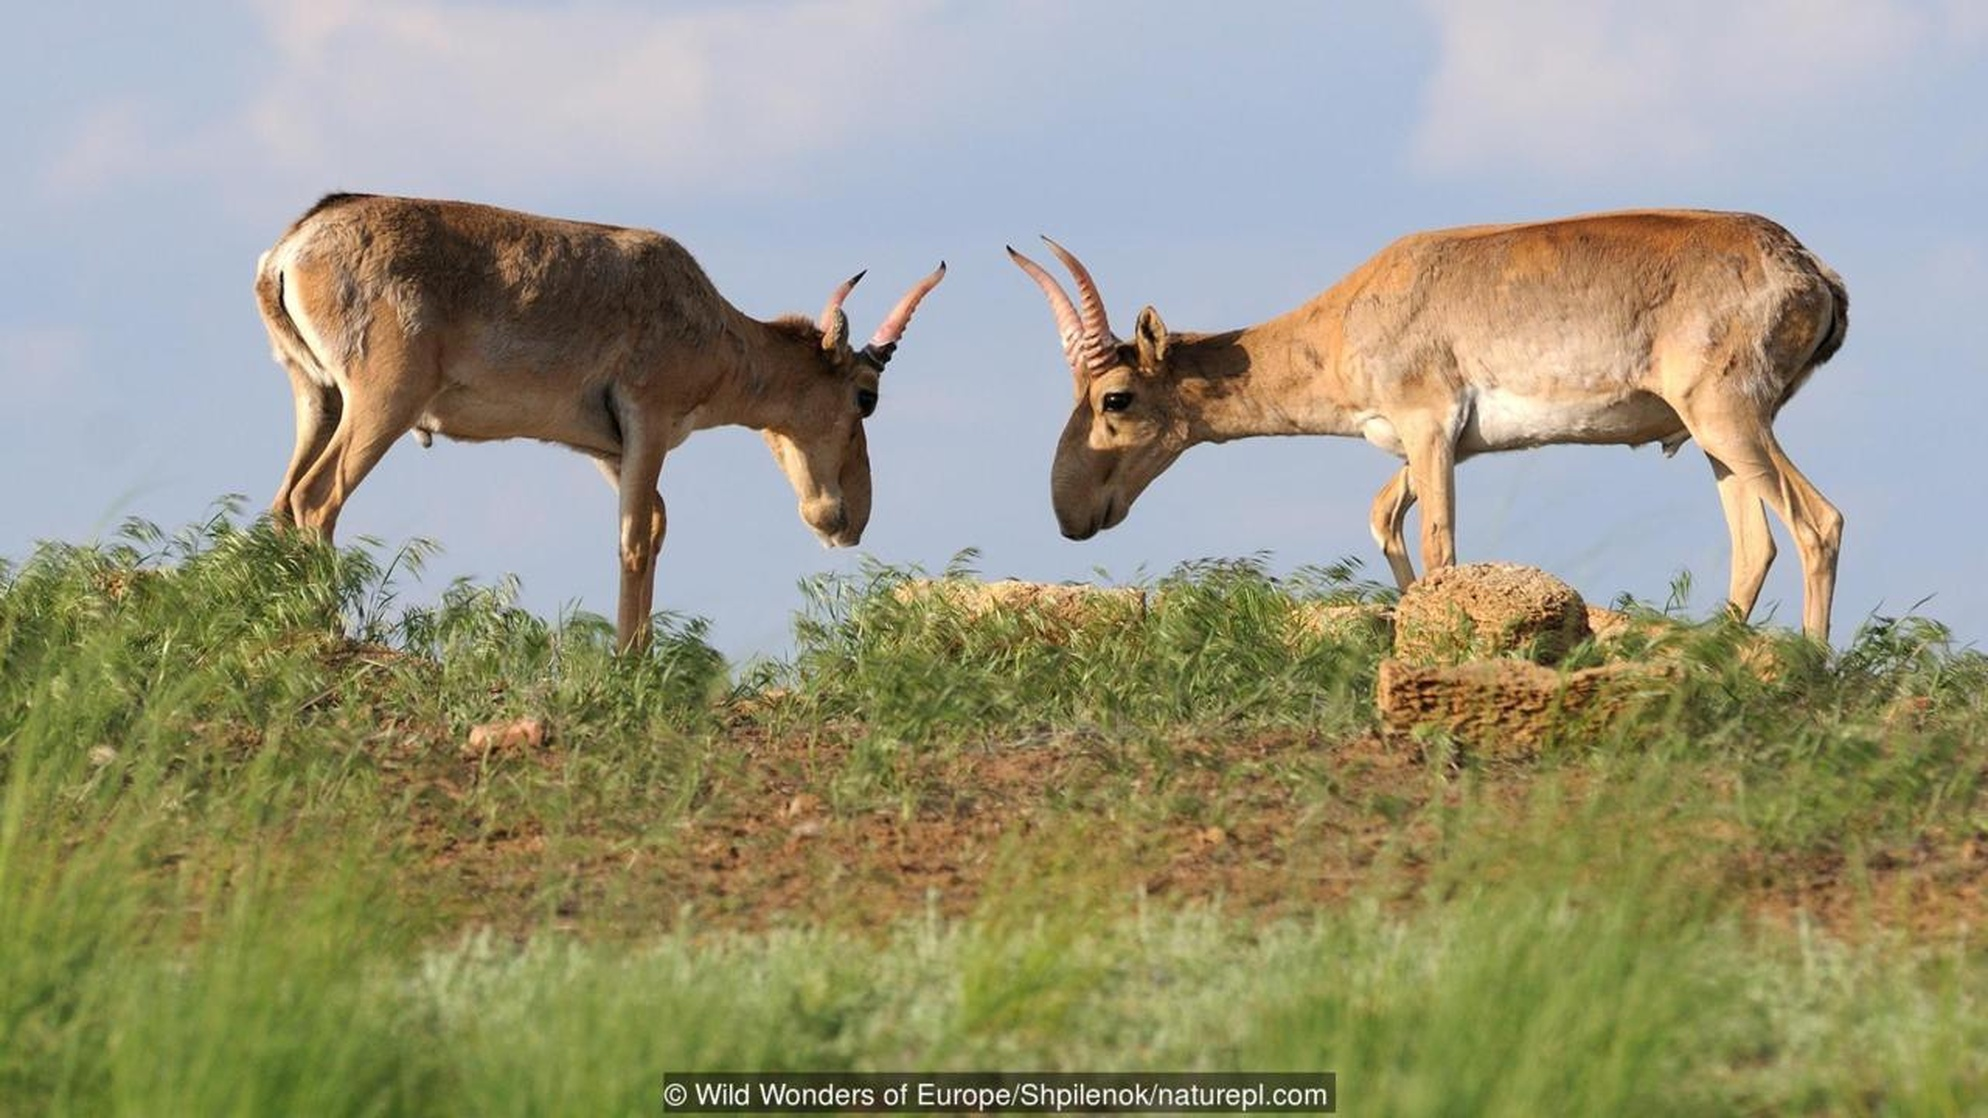saiga: (997, 205, 1866, 655), (247, 190, 948, 693)
